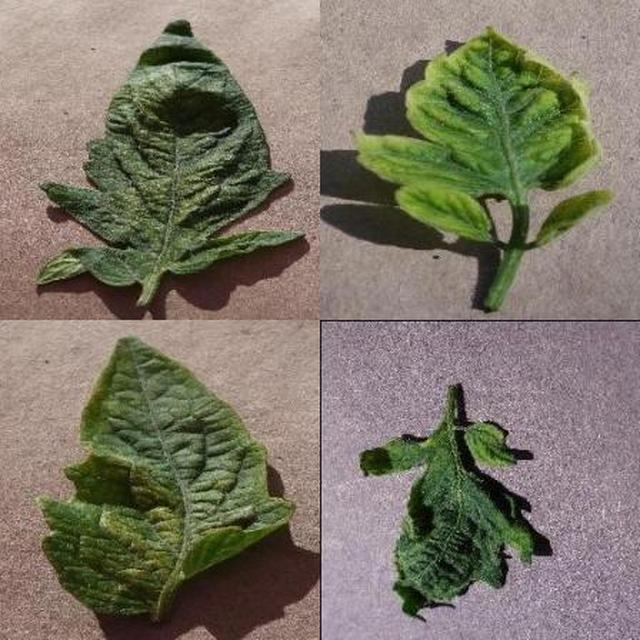Spider Mites Leaf: (108, 86, 640, 640)
